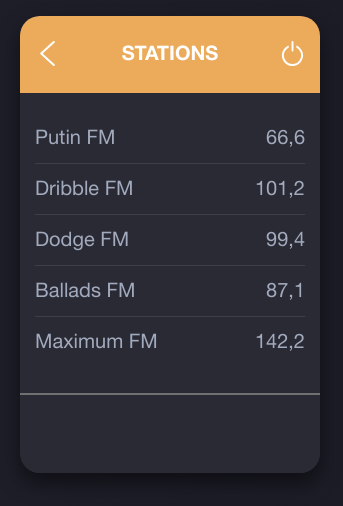
Test: renders radio station as currently playing when clicked
Click the button "Putin FM 66,6" at (75, 138), box [35,112,305,164]
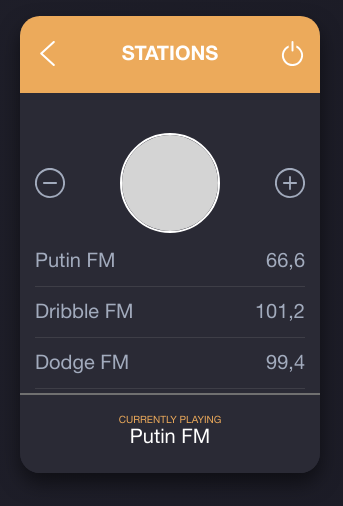
Result: the text "Currently Playing" is shown at [119,414,221,424]
Result: the text "Putin FM" is shown 2 times at [35,250,115,272]; [130,426,210,446]
